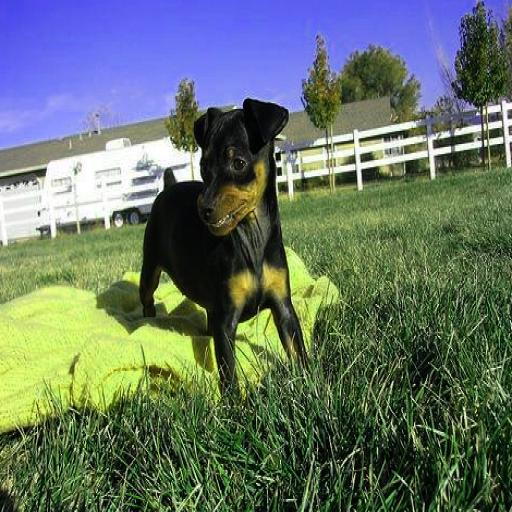dog_face: (194, 104, 285, 236)
